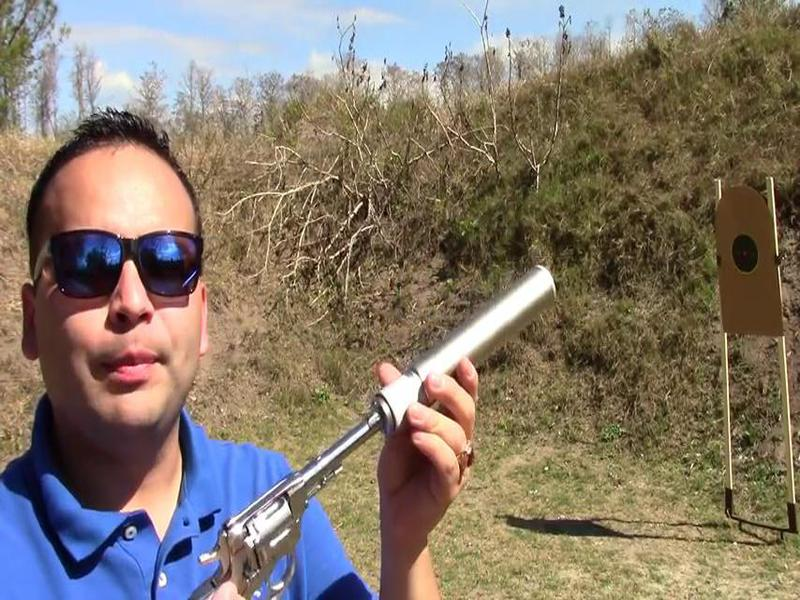Revolver: (164, 382, 422, 600)
